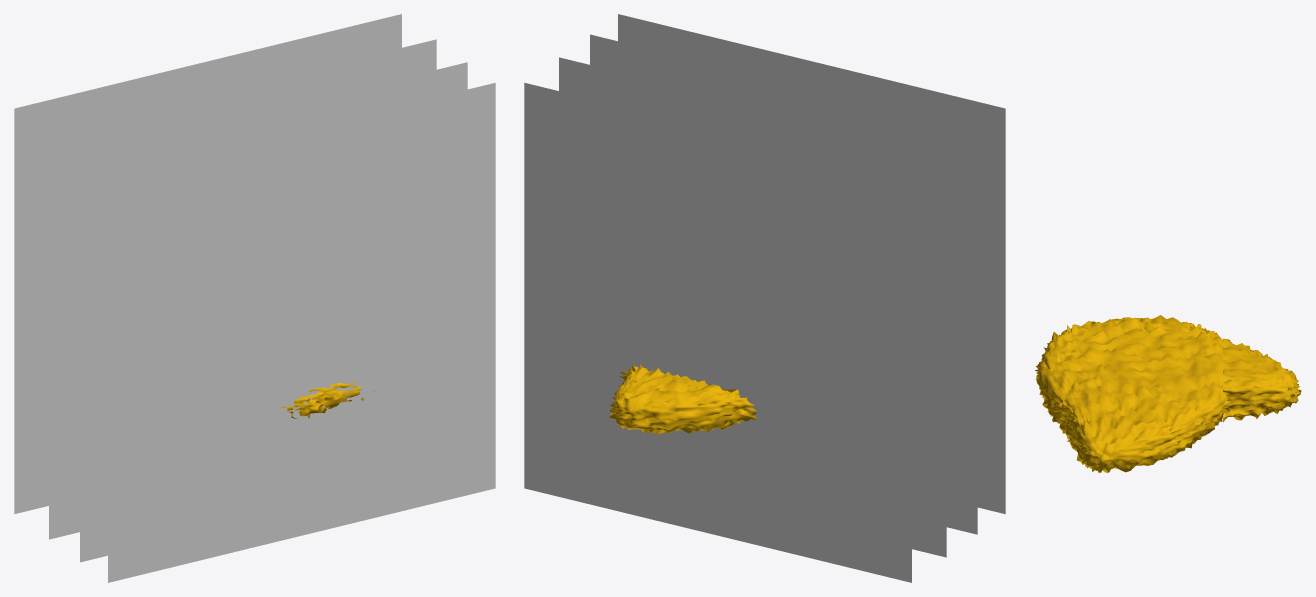
The model's file is 切ったカツ５.fbx.
3 views of the same model, side by side, from view 1: azimuth 30°, elevation 25°; view 2: azimuth 150°, elevation 25°; view 3: azimuth 270°, elevation 25° (orthographic). The views are drawn at different scales.
Parts seen in each view (by area): view 1: 平面.002, 平面.005, 平面.004, 平面.003, 平面; view 2: 平面.005, 平面.004, 平面.003, 平面.002, 平面.001; view 3: 平面, 平面.001.
Part boxes in pixels (bbox=[...]): 平面.002: bbox=[108, 82, 495, 582]; 平面.005: bbox=[14, 14, 401, 514]; 平面.004: bbox=[49, 39, 436, 539]; 平面.003: bbox=[80, 62, 467, 562]; 平面: bbox=[281, 382, 374, 418]; 平面.005: bbox=[524, 82, 911, 582]; 平面.004: bbox=[559, 57, 946, 557]; 平面.003: bbox=[590, 34, 977, 534]; 平面.002: bbox=[618, 14, 1005, 514]; 平面.001: bbox=[609, 364, 747, 434]; 平面: bbox=[1035, 315, 1232, 473]; 平面.001: bbox=[1223, 338, 1301, 422].
Bounding box in the file's own units: 418 × 400 × 250.
